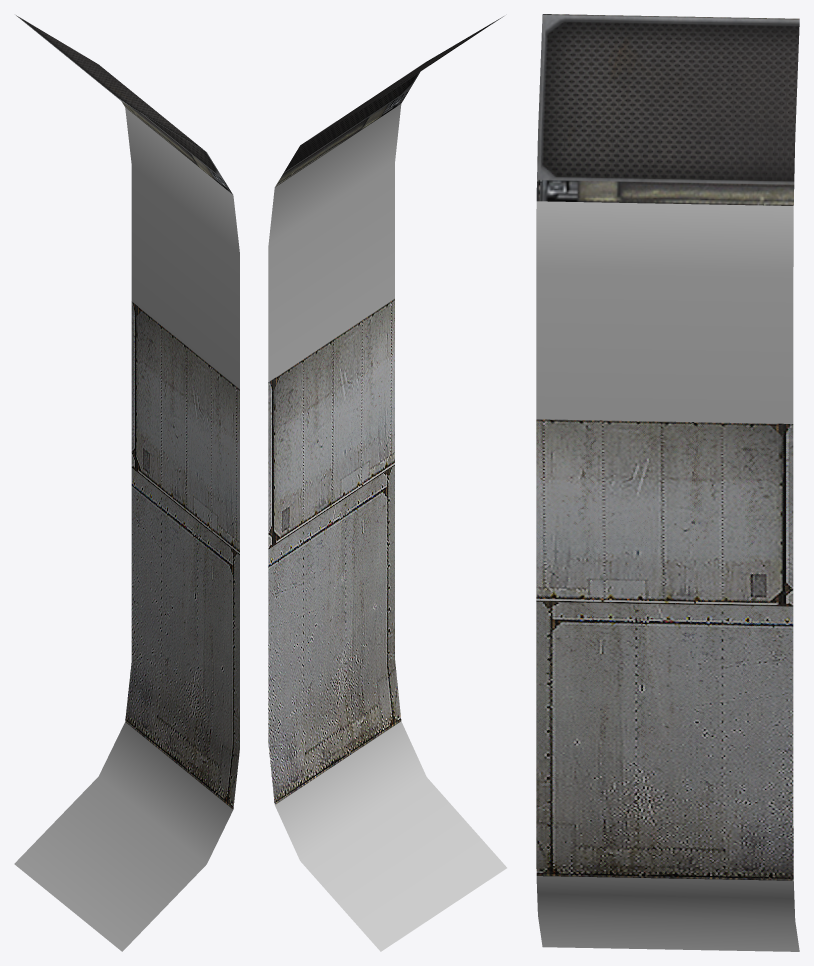
File: Wall_L_Mid4mts_07.fbx
3 renders of one model, left to right at view 1: azimuth 30°, elevation 25°; view 2: azimuth 150°, elevation 25°; view 3: azimuth 270°, elevation 25°, orthographic. The views are drawn at different scales.
Visible parts, largest first — view 1: Wall_L_Mid4mts_07; view 2: Wall_L_Mid4mts_07; view 3: Wall_L_Mid4mts_07.
Part boxes in pixels (x1,y1,x2,y2): Wall_L_Mid4mts_07: (14,15,239,951); Wall_L_Mid4mts_07: (268,16,506,951); Wall_L_Mid4mts_07: (536,14,799,951).
Bounding box in the file's own units: 60.87 × 400 × 102.
